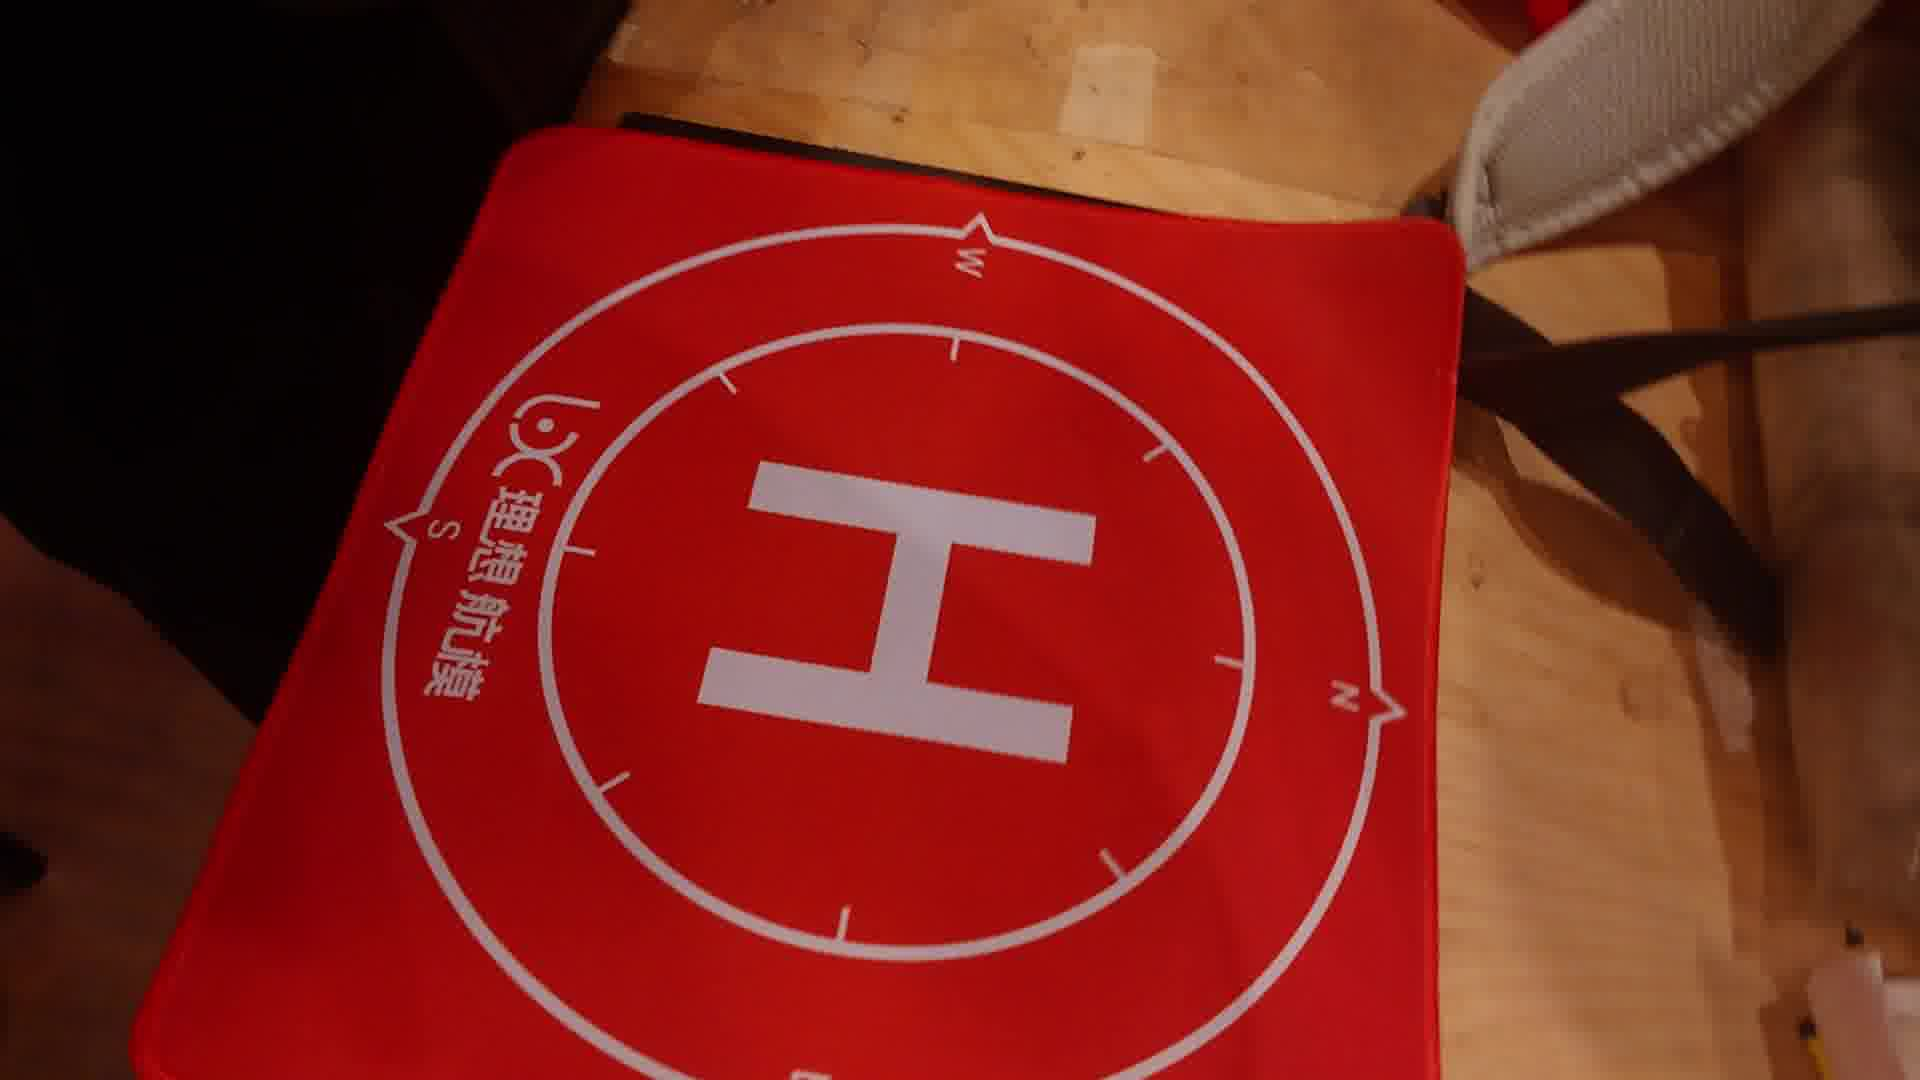H: (694, 455, 1101, 767)
